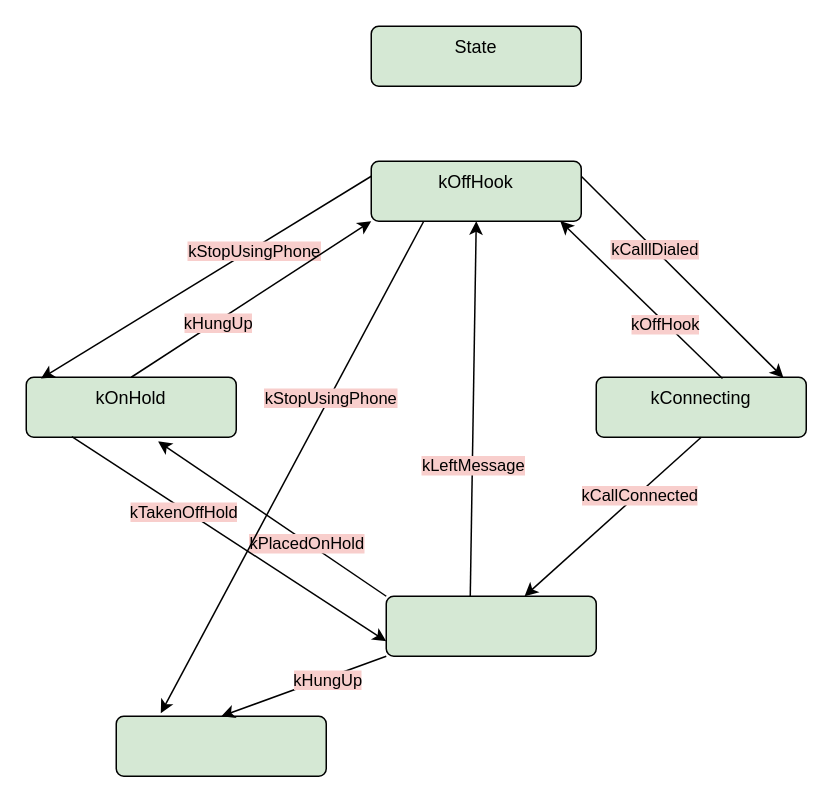
Some shapes in this 833 by 803 pixel diagram are drawn without their labels. Here are the shapes that lost their labels. From the top down, the centre of each, then its label:
(490,625): kConnected
(220,745): kOnHook
